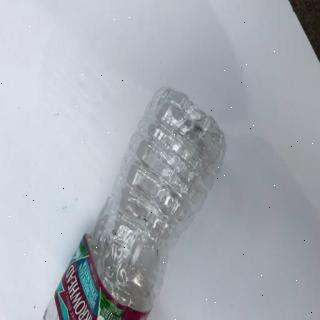Plastic-bottle: (41, 85, 229, 320)
